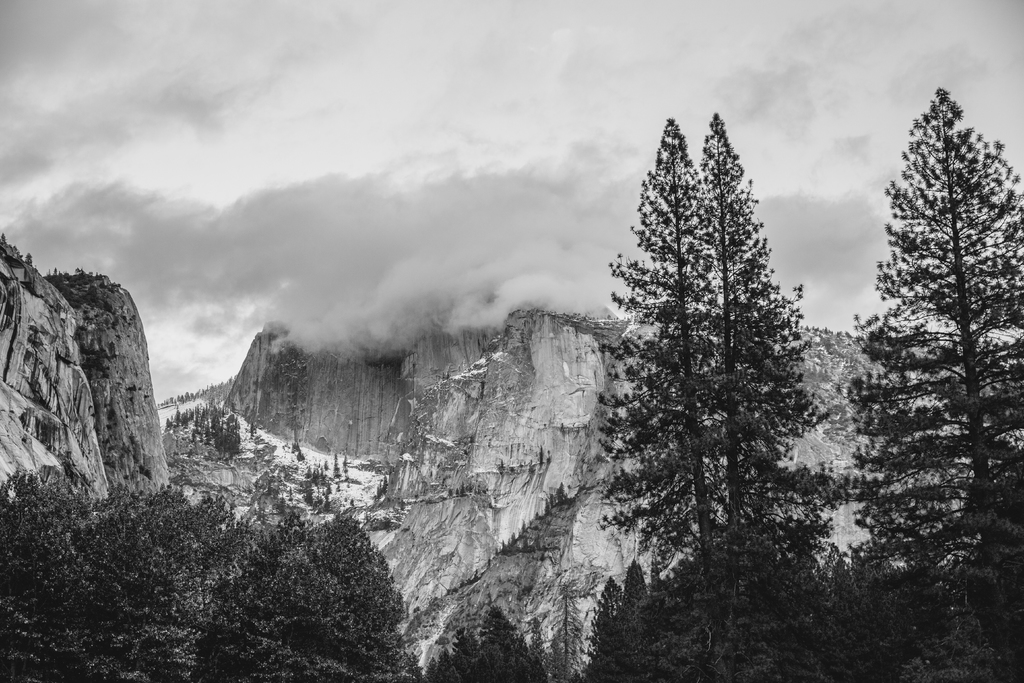Tree: (599, 112, 839, 632), (0, 472, 421, 682), (847, 84, 1023, 582), (427, 607, 592, 682)
